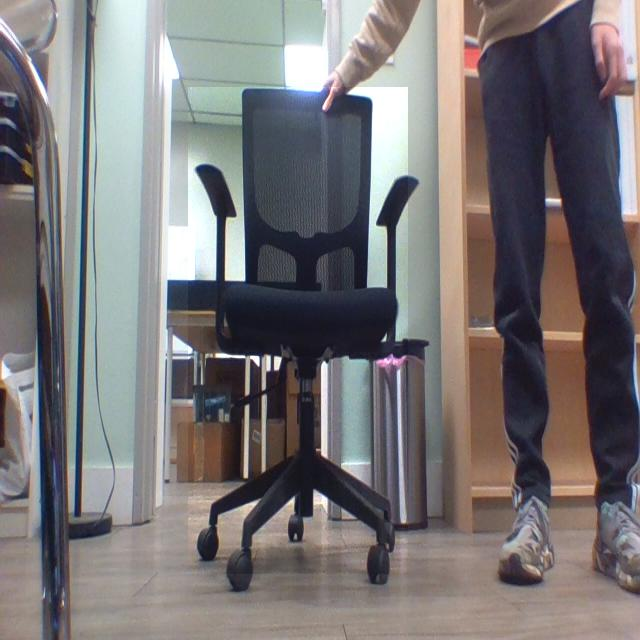black-chair: (188, 87, 409, 575)
